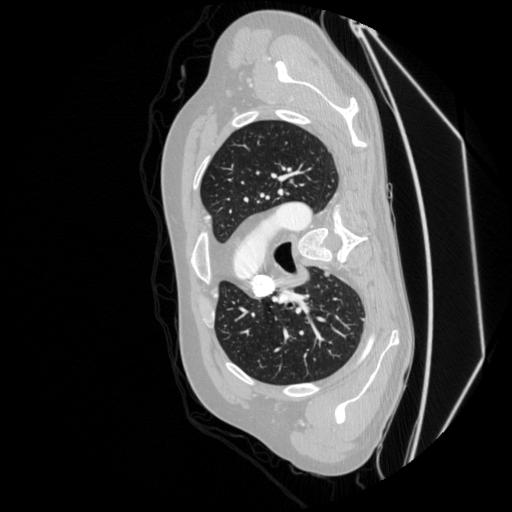nodule: (322, 271, 333, 282)
